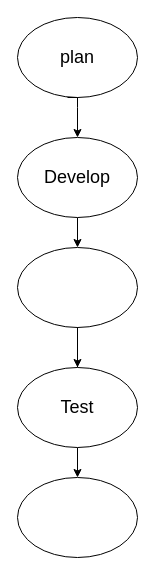
Some shapes in this 155 by 575 pixel diagram are drawn without their labels. Each missing label, with the centre of its shape:
Build: point 77,287
Release: point 77,517
